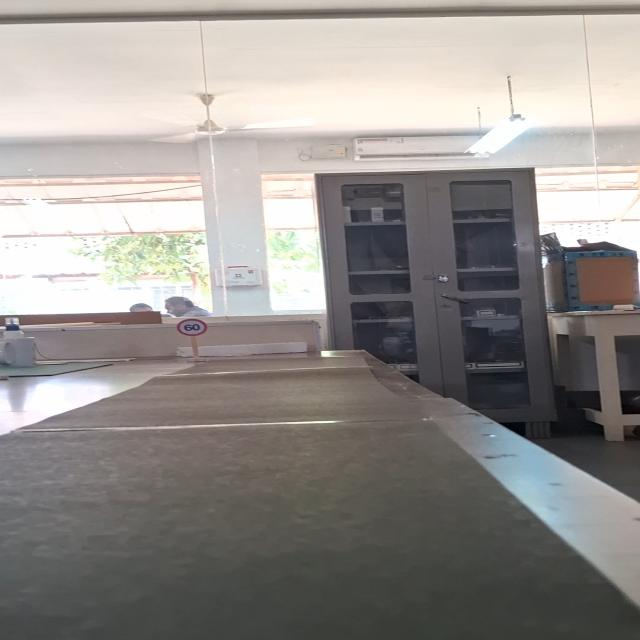Speed60: (175, 318, 210, 337)
